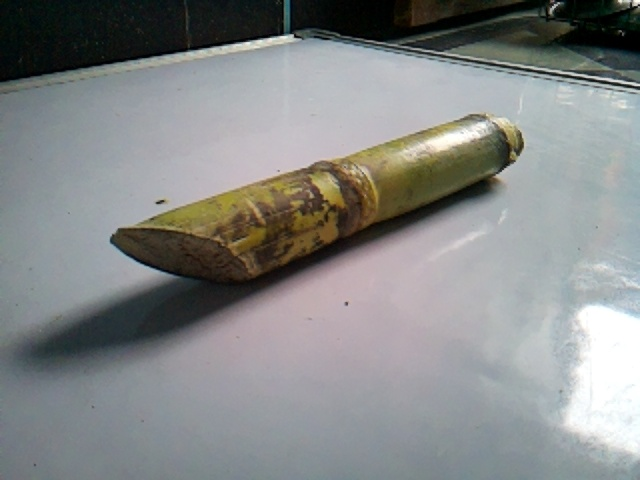Good Sugarcane: (109, 110, 525, 288)
Node: (292, 156, 380, 238)
